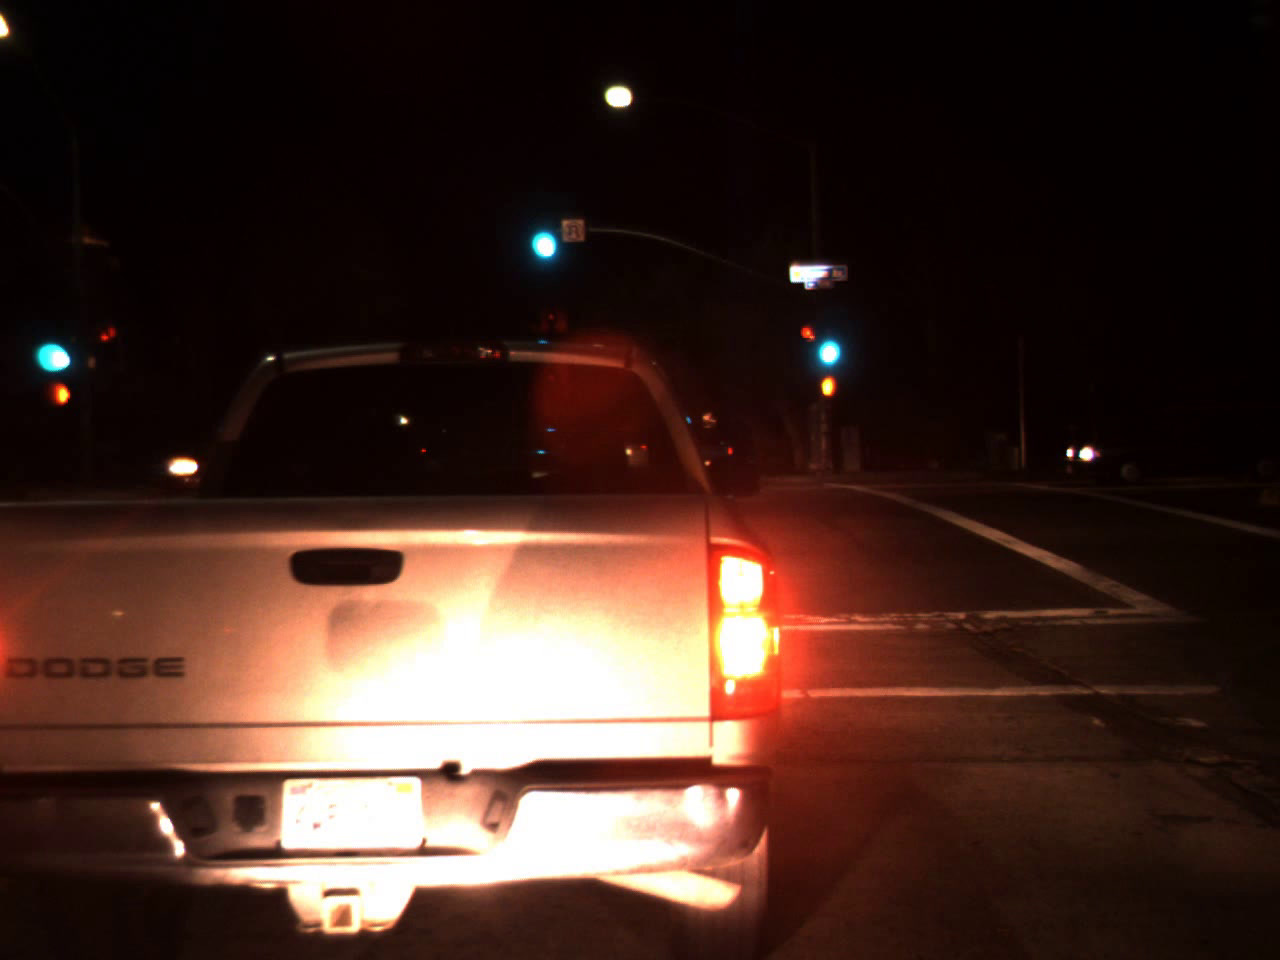go: (25, 307, 73, 382), (521, 197, 562, 269), (808, 309, 845, 375)
